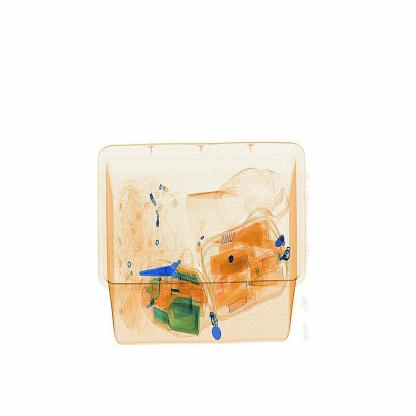gun: (134, 244, 205, 300)
